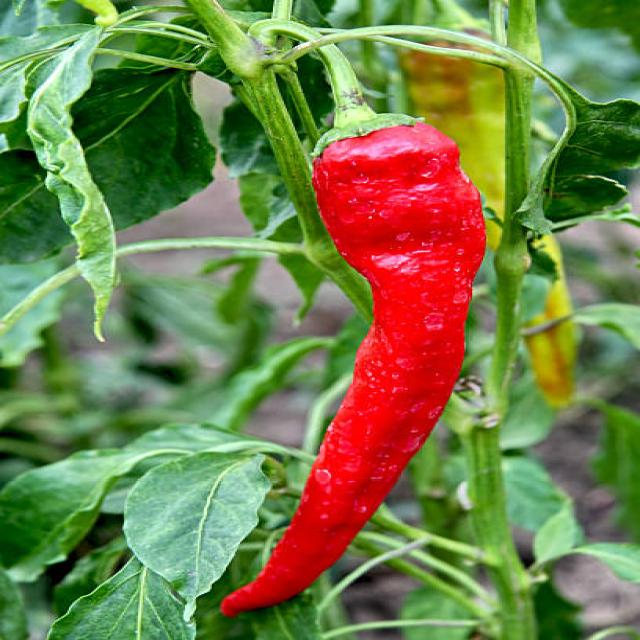Ripe: (221, 124, 488, 618)
